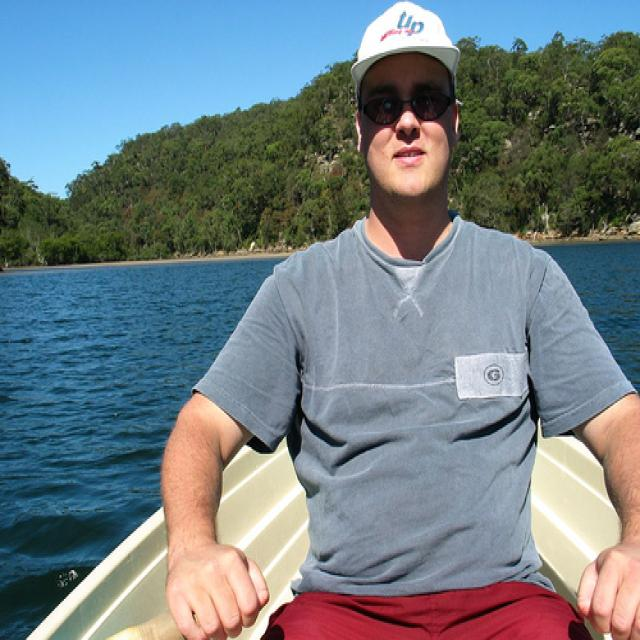boat: (24, 419, 640, 639)
person: (166, 1, 639, 639)
